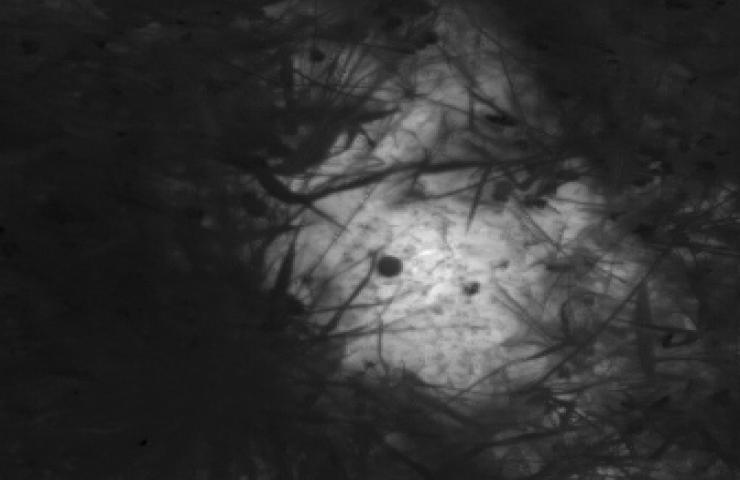landmines: (232, 21, 644, 431)
